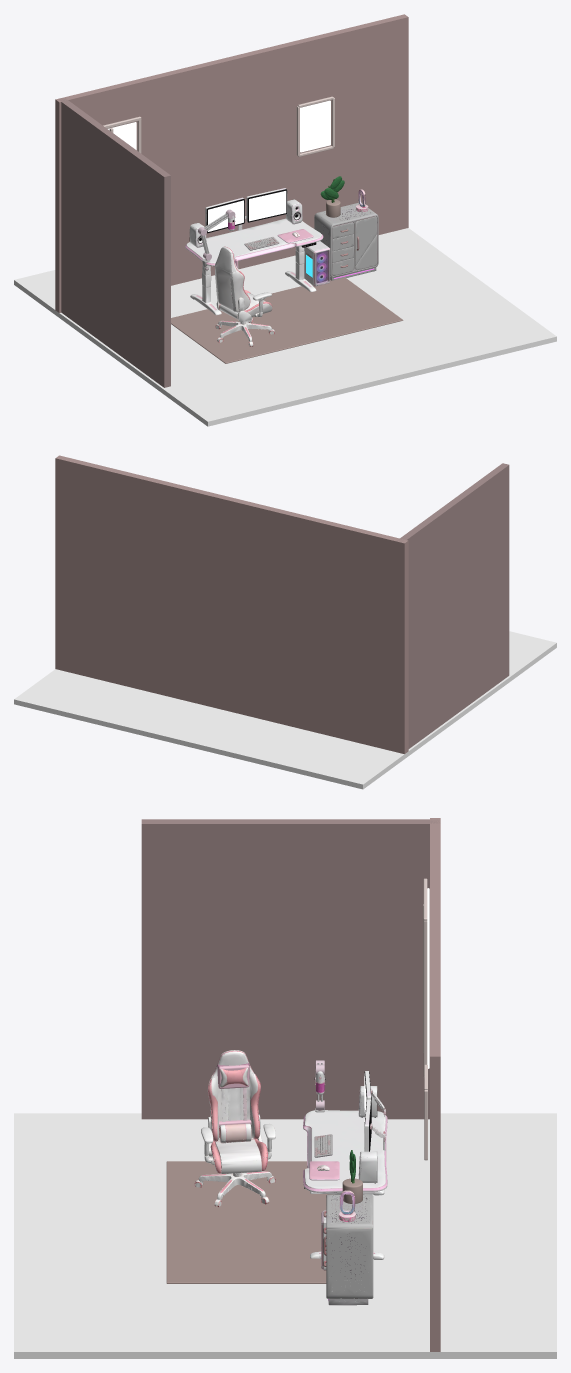
3 views of the same model, one above another, from view 1: azimuth 30°, elevation 25°; view 2: azimuth 150°, elevation 25°; view 3: azimuth 270°, elevation 25° (orthographic). The views are drawn at different scales.
Visible parts, largest first — view 1: Architecture_Back_Wall, Architecture_Floor, Architecture_Left_Wall, Decor_Rug, GEO_Desk_Moving_Top, GEO_Chair_Swivel_Upper, GEO_Cabinet_Body, Wall_Art_Art, GEO_Door_Right_Front, 04-pc-tower_mesh_01, Screen_Right, GEO_Desk_Fixed_Base (+2 smaller); view 2: Architecture_Back_Wall, Architecture_Left_Wall, Architecture_Floor; view 3: Architecture_Floor, Architecture_Left_Wall, Decor_Rug, Architecture_Back_Wall, GEO_Chair_Swivel_Upper, GEO_Cabinet_Body, GEO_Desk_Moving_Top, GEO_Chair_Static_Base, Window_Frame_V.001.
Part boxes in pixels (x1,y1,x2,y2): Architecture_Back_Wall: (55, 14, 408, 312); Architecture_Floor: (14, 228, 556, 426); Architecture_Left_Wall: (58, 98, 170, 387); Decor_Rug: (171, 277, 403, 363); GEO_Desk_Moving_Top: (185, 218, 323, 274); GEO_Chair_Swivel_Upper: (215, 246, 272, 321); GEO_Cabinet_Body: (314, 202, 378, 280); Wall_Art_Art: (300, 100, 330, 152); GEO_Door_Right_Front: (355, 216, 377, 270); 04-pc-tower_mesh_01: (304, 241, 330, 286); Screen_Right: (249, 191, 286, 221); GEO_Desk_Fixed_Base: (190, 263, 316, 315); Architecture_Back_Wall: (55, 455, 408, 753); Architecture_Left_Wall: (396, 463, 509, 748); Architecture_Floor: (14, 631, 556, 789); Architecture_Floor: (14, 1113, 556, 1358); Architecture_Left_Wall: (141, 819, 440, 1119); Decor_Rug: (166, 1161, 334, 1283); Architecture_Back_Wall: (430, 818, 440, 1351); GEO_Chair_Swivel_Upper: (201, 1050, 275, 1173); GEO_Cabinet_Body: (326, 1194, 373, 1305); GEO_Desk_Moving_Top: (303, 1110, 387, 1194); GEO_Chair_Static_Base: (194, 1171, 275, 1206); Window_Frame_V.001: (423, 921, 427, 1075).
Bounding box in the file's own units: 5.2 × 3.07 × 5.
32 materials, 13 textured.
